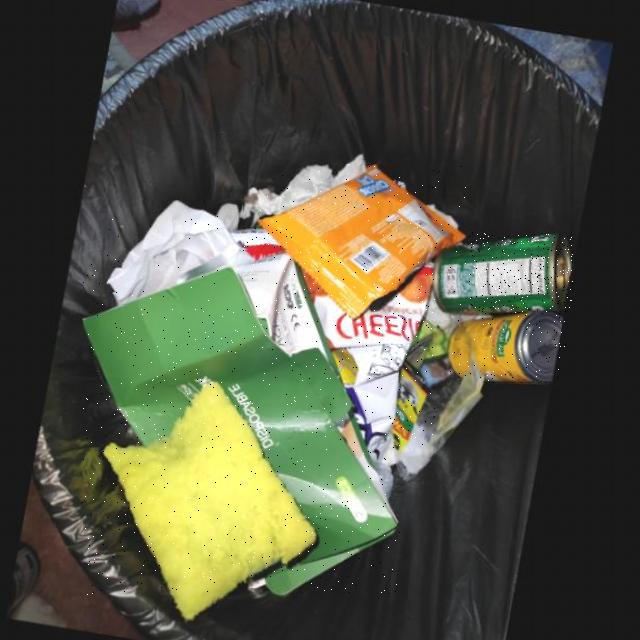metal: (435, 233, 573, 315), (450, 311, 566, 383)
paper: (84, 250, 401, 595), (109, 201, 243, 305)
wrapper: (260, 165, 469, 318), (298, 261, 435, 459), (234, 229, 288, 259)
